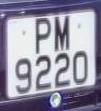0: (71, 49, 91, 87)
2: (33, 53, 55, 95), (53, 52, 73, 90)
9: (14, 54, 34, 98)
M: (52, 15, 75, 55)
P: (31, 14, 54, 58)
